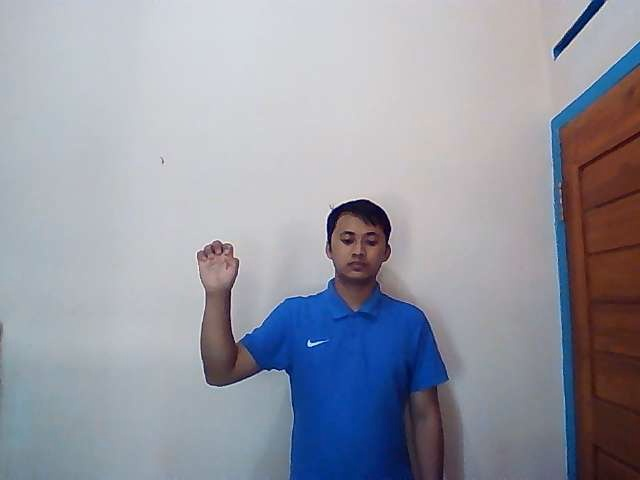E: (196, 239, 241, 289)
